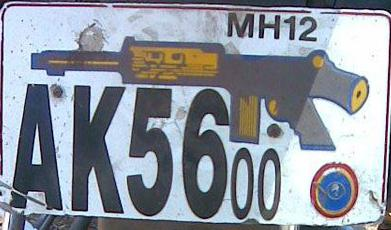0: (254, 145, 281, 218), (230, 145, 254, 220)
1: (283, 14, 298, 41)
2: (298, 14, 318, 43)
5: (125, 84, 172, 216)
6: (181, 85, 229, 218)
A: (8, 77, 66, 209)
H: (256, 11, 281, 39)
K: (69, 82, 125, 214)
M: (222, 10, 257, 39)
